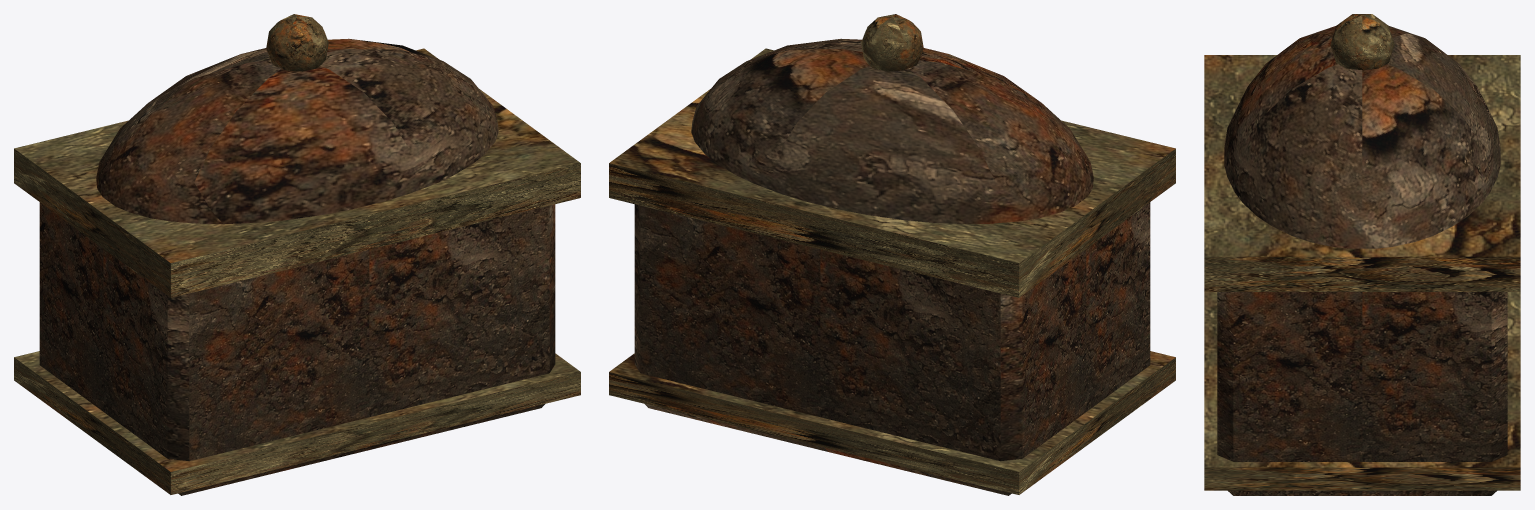
File: ancient-reliquary-v02-photo.glb
The picture shows the model from 3 angles, left to right: view 1: azimuth 30°, elevation 25°; view 2: azimuth 150°, elevation 25°; view 3: azimuth 270°, elevation 25°; orthographic projection.
Visible parts, largest first — view 1: ancient-reliquary; view 2: ancient-reliquary; view 3: ancient-reliquary.
Part boxes in pixels (box(x1,y1,x2,y2)): ancient-reliquary: box(14, 14, 580, 495); ancient-reliquary: box(609, 14, 1175, 495); ancient-reliquary: box(1204, 14, 1520, 495).
Bounding box in the file's own units: 0.74 × 0.67 × 0.49.
Materials: 2 (2 with a texture image).
